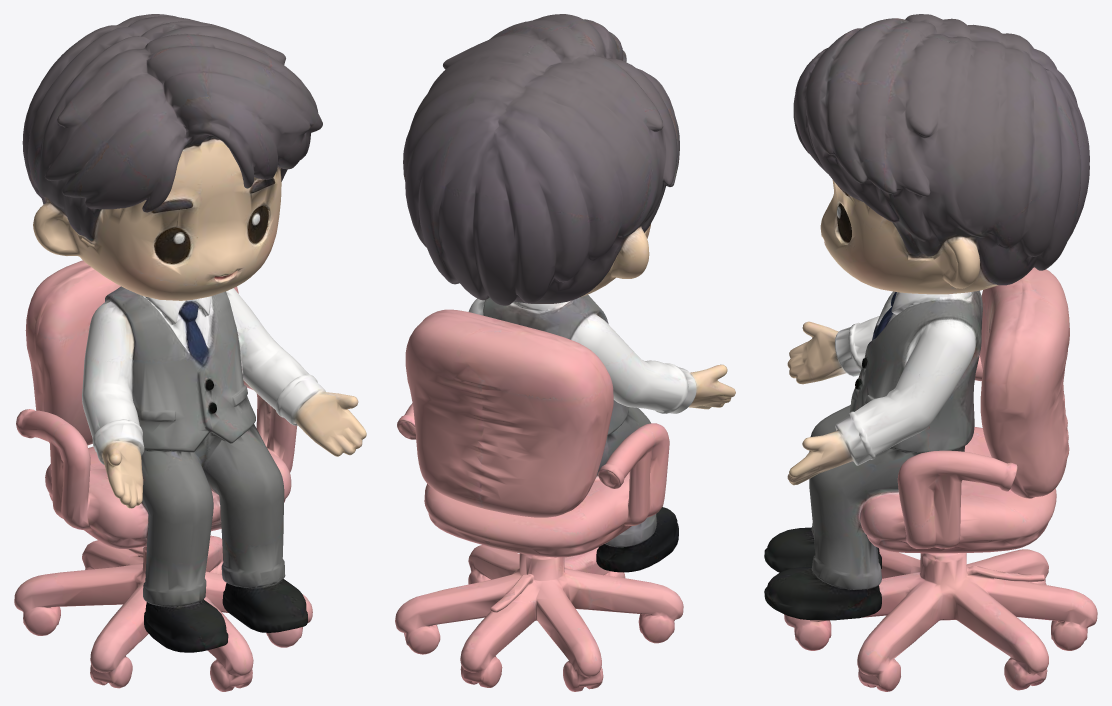
File: seat_manager.glb
The picture shows the model from 3 angles, left to right: view 1: azimuth 30°, elevation 25°; view 2: azimuth 150°, elevation 25°; view 3: azimuth 270°, elevation 25°; orthographic projection. The views are drawn at different scales.
Size of the model in its own units: 0.828 by 1.9 by 0.9255.
1 material, 1 textured.
